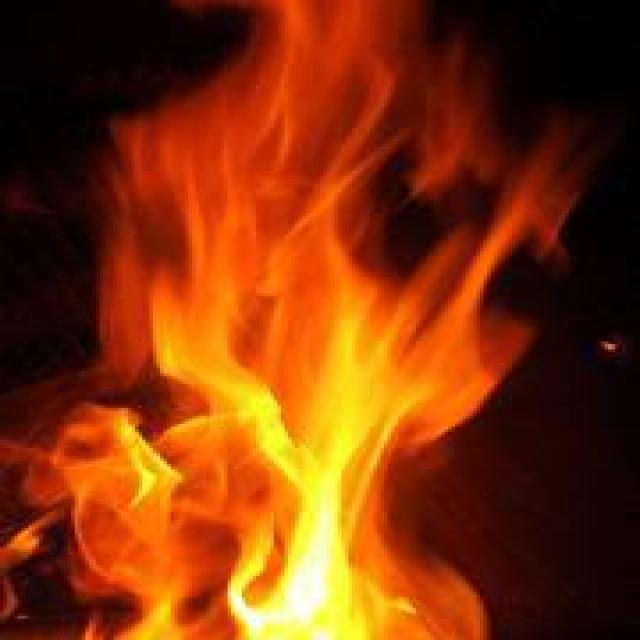fire: (11, 9, 576, 635)
